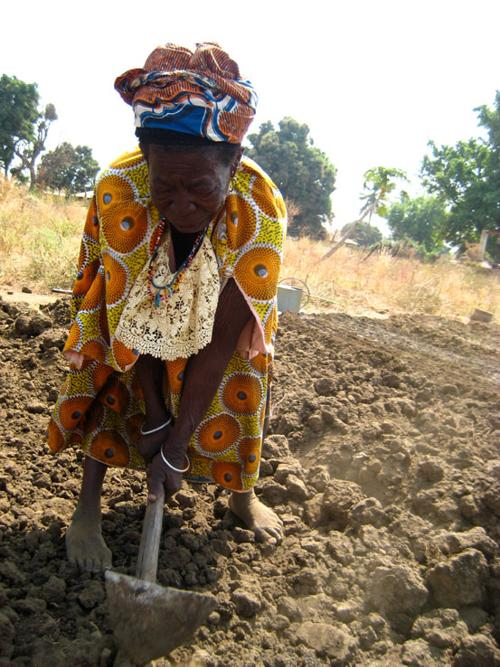person: (47, 39, 287, 569)
